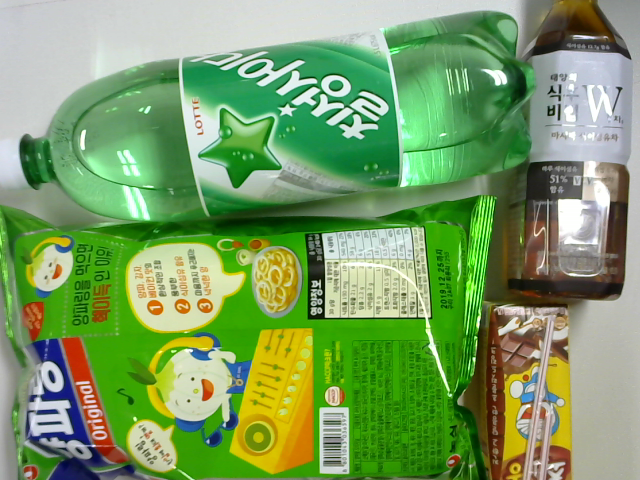Chilseong_Cider_1.5L: (7, 10, 533, 220)
Choco_E_Mong: (485, 300, 580, 480)
Oninon_Ring: (1, 202, 488, 480)
Post-meal_recipe_W_tea_500ml: (509, 4, 640, 307)
